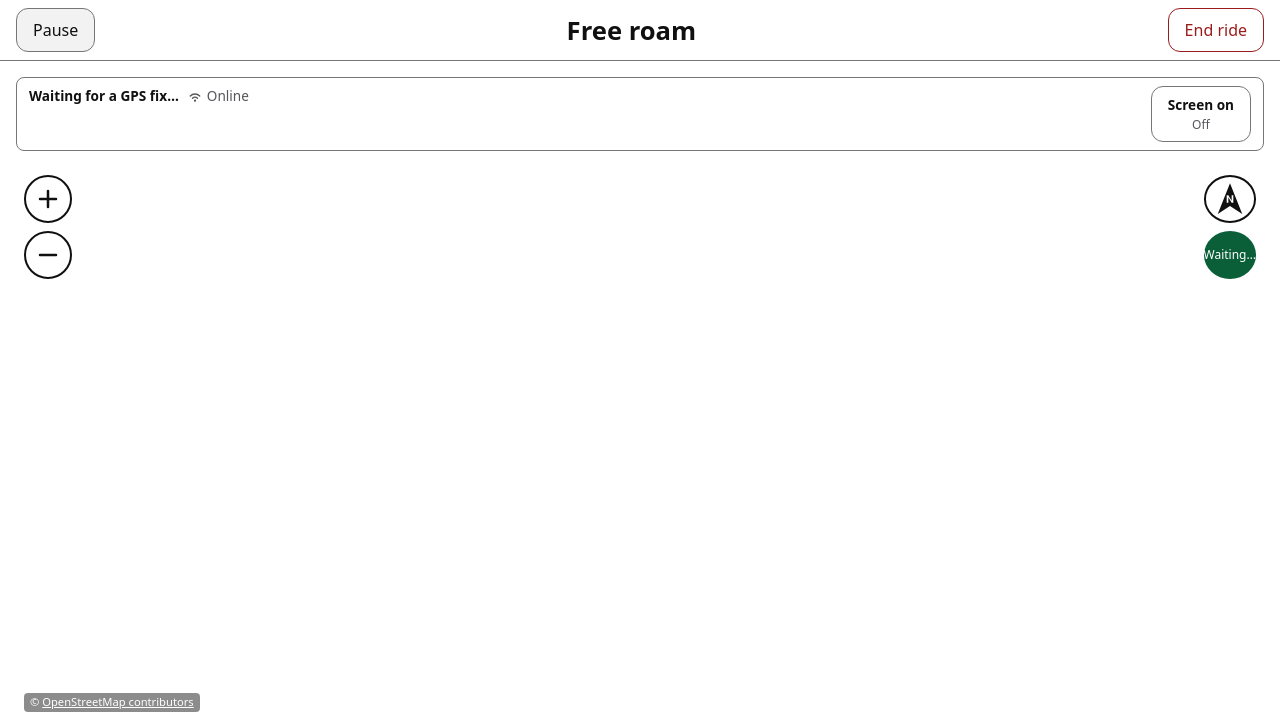
it: FreeRoamScreen End ride › the confirmation copy does not mention a saved route
This screenshot has width=1280, height=720.
Click the button "End ride" at (1216, 30), box x1=1168 y1=8 x2=1264 y2=52
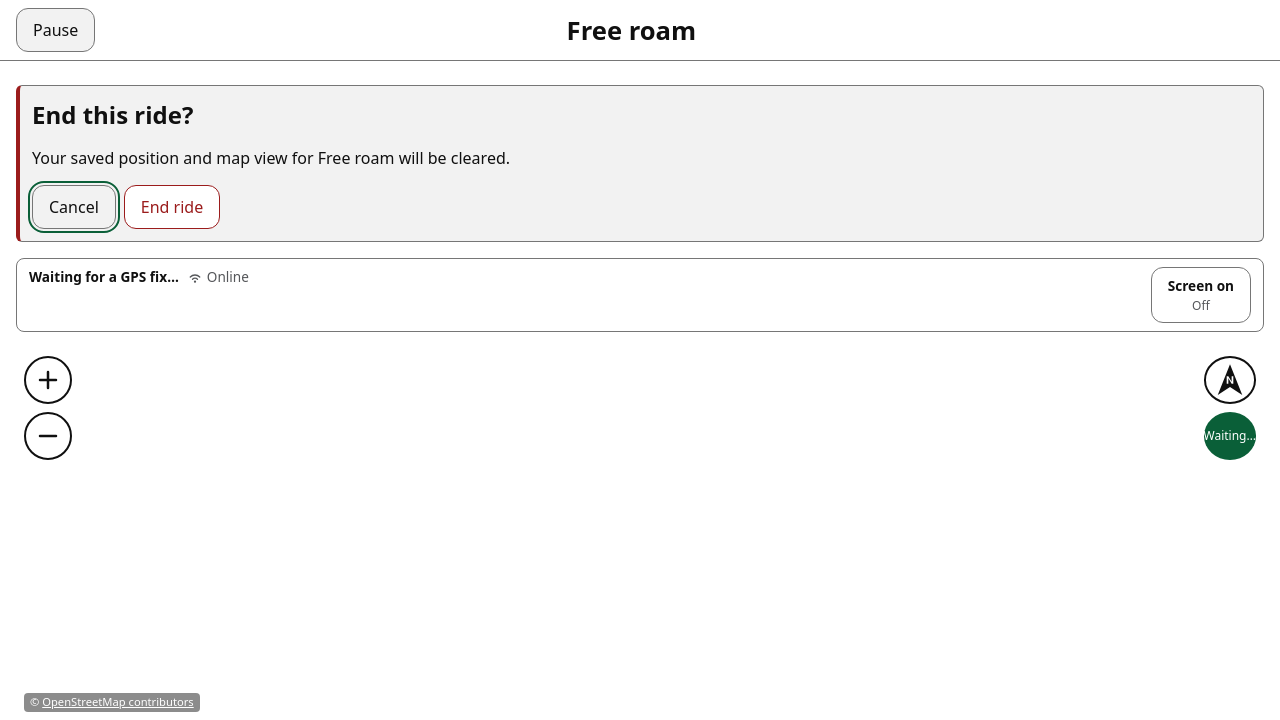
Expected: the heading "End this ride?" is shown, x1=32 y1=98 x2=193 y2=131
Expected: the text "Your saved position and map view for Free roam will be cleared." is shown, x1=32 y1=147 x2=510 y2=169
